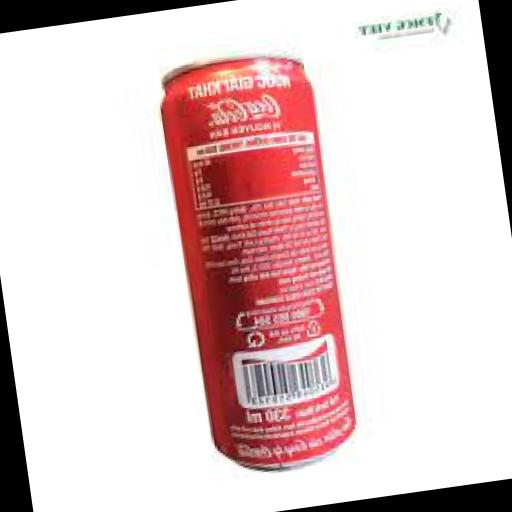Coca: (150, 46, 376, 488)
